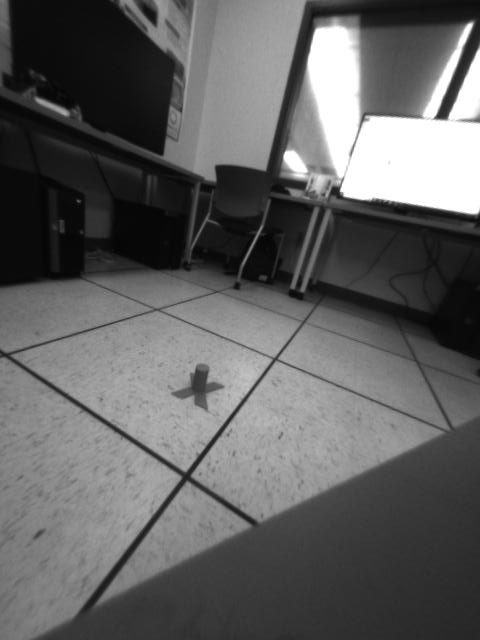X: (171, 364, 225, 410)
